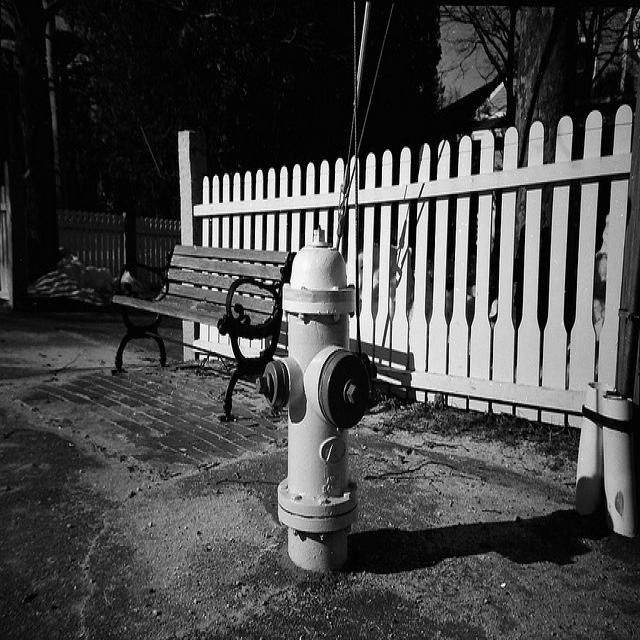fire_hydrant: (254, 220, 373, 574)
